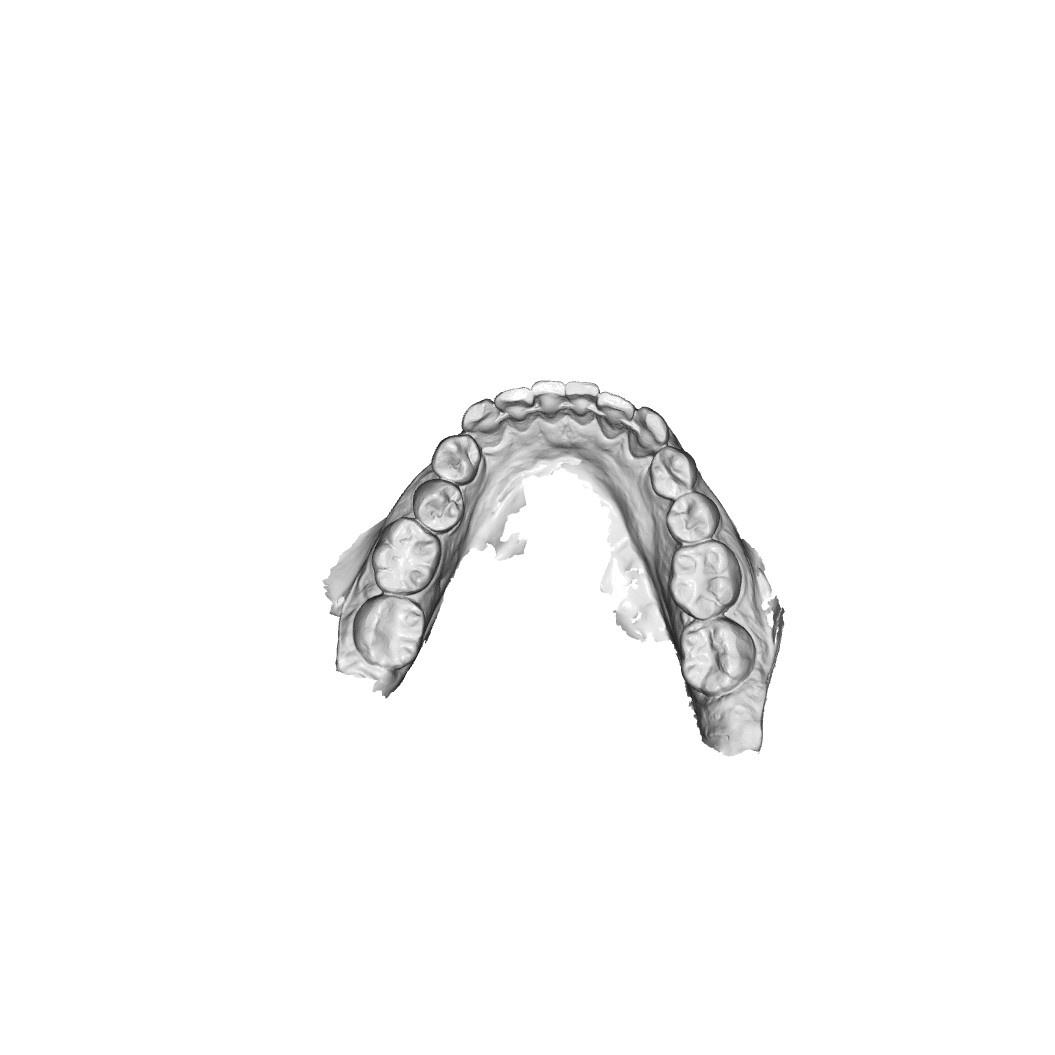canine: (464, 397, 507, 446), (628, 405, 666, 456)
incisor: (598, 393, 628, 437), (531, 378, 566, 415), (498, 391, 530, 429), (566, 381, 597, 414)
molar: (682, 623, 755, 696), (351, 598, 425, 669), (674, 546, 741, 622), (369, 523, 441, 590)
premolar: (668, 494, 719, 542), (414, 485, 467, 530), (649, 446, 694, 497), (436, 432, 480, 483)
